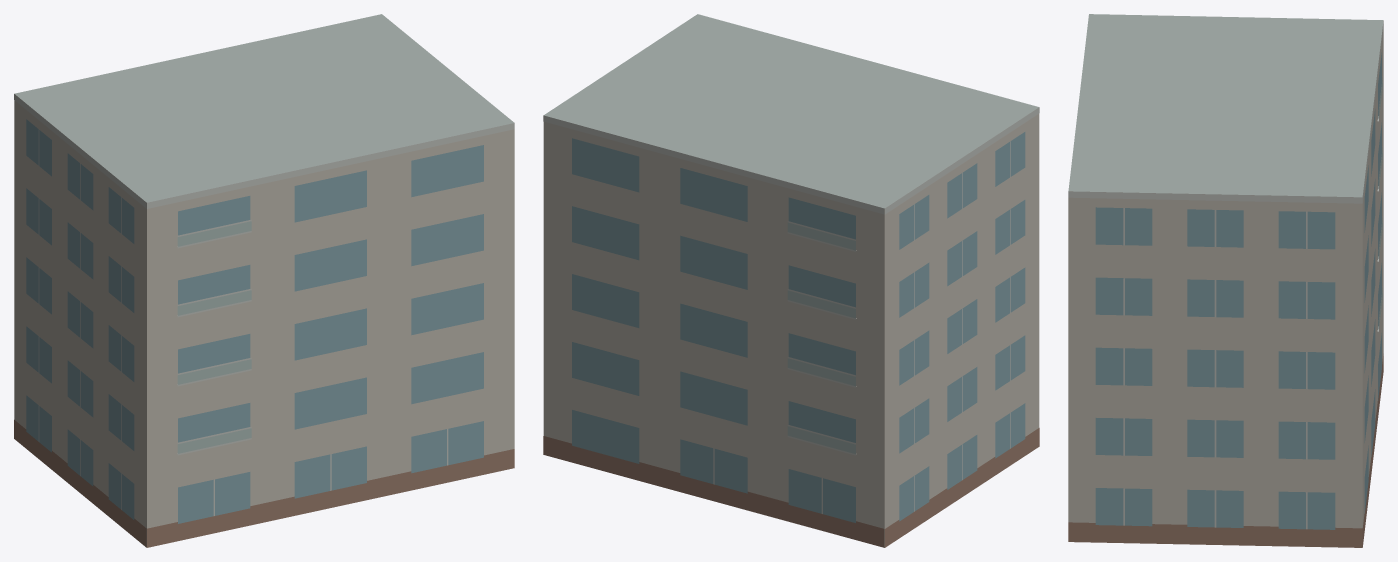
File: survey-upis-32662667.glb
The picture shows the model from 3 angles, left to right: view 1: azimuth 30°, elevation 25°; view 2: azimuth 150°, elevation 25°; view 3: azimuth 270°, elevation 25°; orthographic projection. The views are drawn at different scales.
Visible parts, largest first — view 1: survey-upis-32662667.tmp; view 2: survey-upis-32662667.tmp; view 3: survey-upis-32662667.tmp.
Part boxes in pixels (bbox=[...]): survey-upis-32662667.tmp: bbox=[14, 14, 514, 547]; survey-upis-32662667.tmp: bbox=[543, 14, 1039, 547]; survey-upis-32662667.tmp: bbox=[1068, 14, 1383, 547].
Size of the model in its own units: 15.09 by 13.45 by 10.97.
